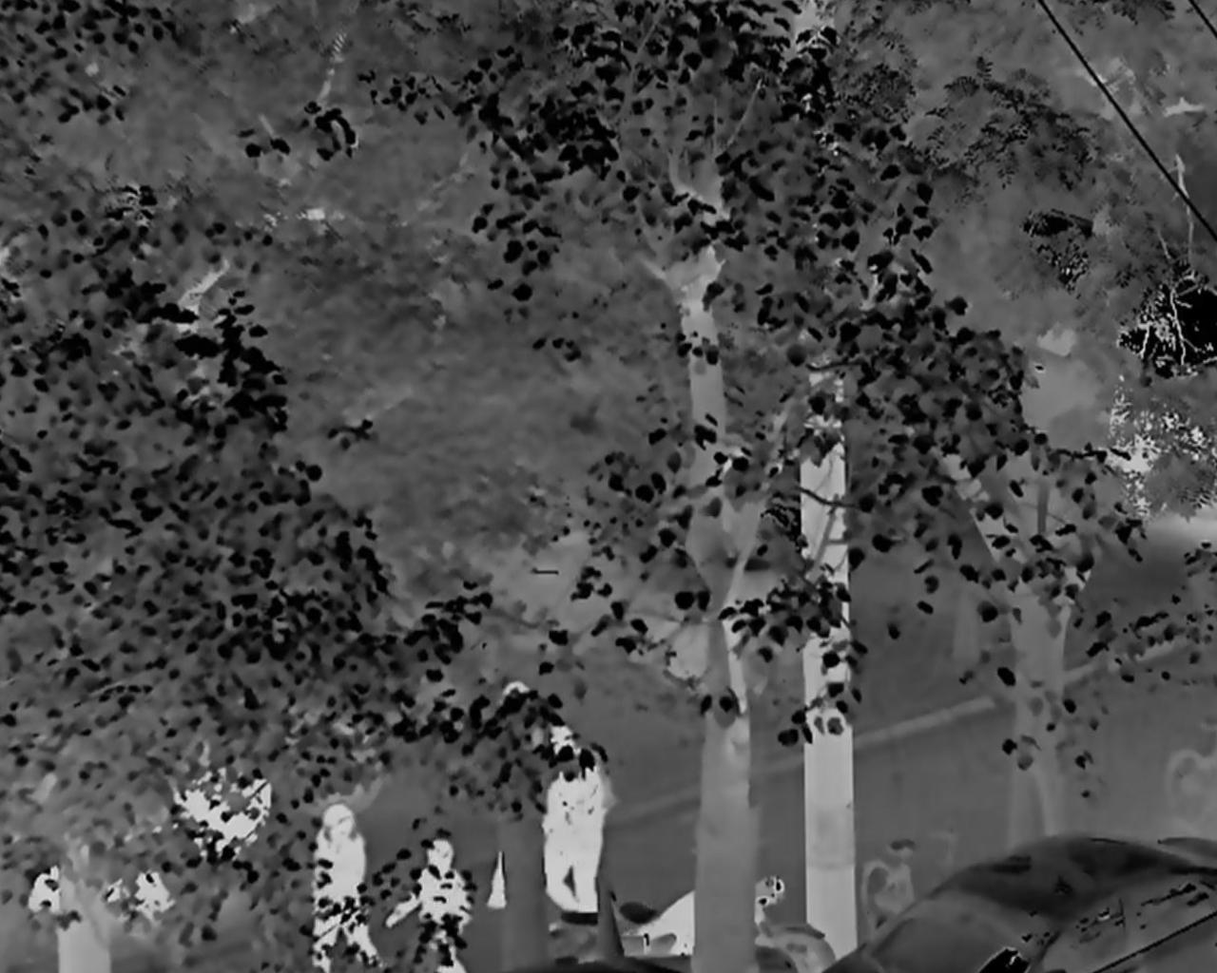person: (310, 805, 386, 973), (545, 720, 610, 915), (386, 838, 471, 973)
